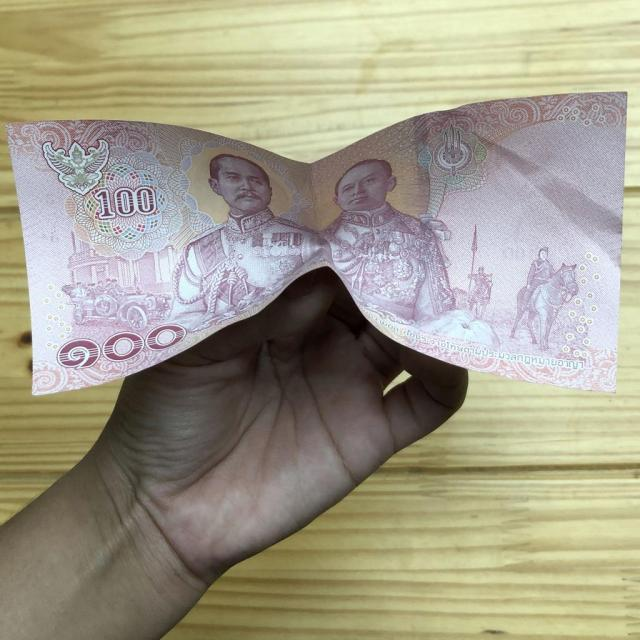THAI100: (8, 93, 627, 395)
